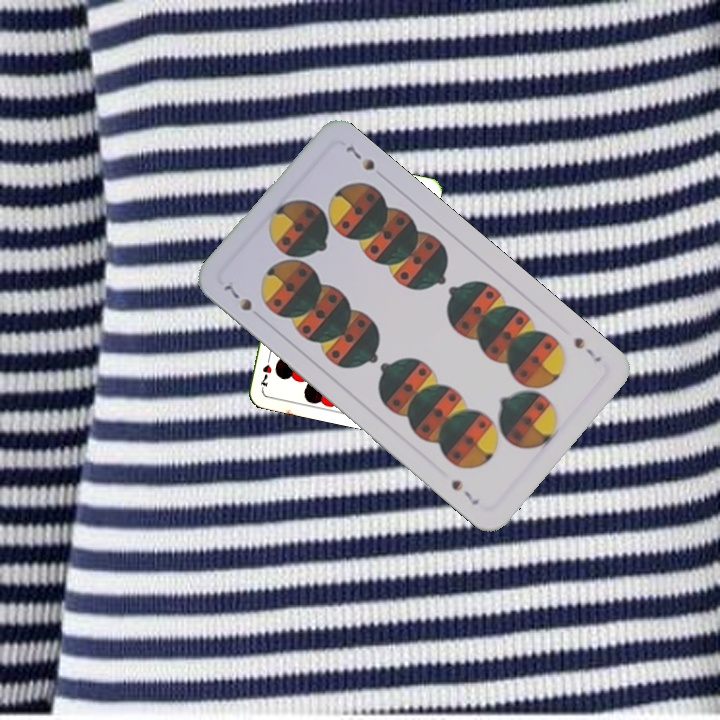S7: (219, 280, 255, 314), (569, 333, 605, 365)
